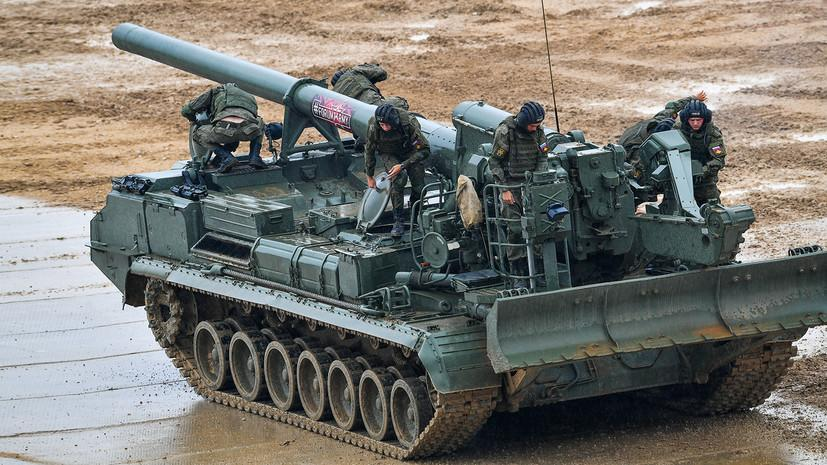person: (356, 92, 442, 244), (489, 98, 563, 271), (649, 83, 728, 204), (179, 78, 270, 176)
sau: (82, 7, 827, 451)
